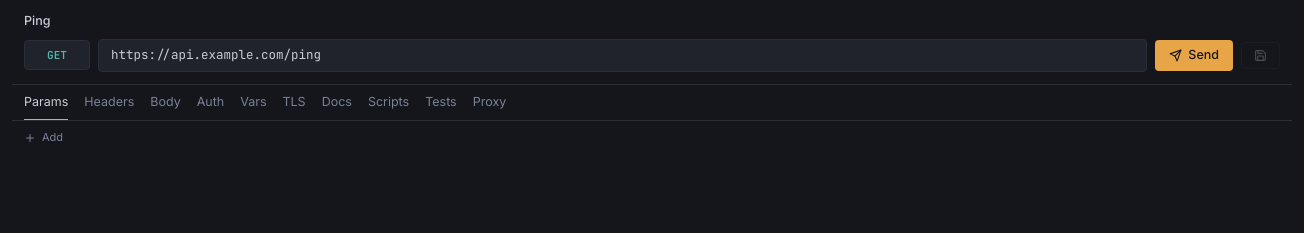
Scenario: RequestBuilder › selects a body type and shows the body editor
The image size is (1304, 233).
Click the button "Body" at [166, 103], box [150, 84, 181, 121]
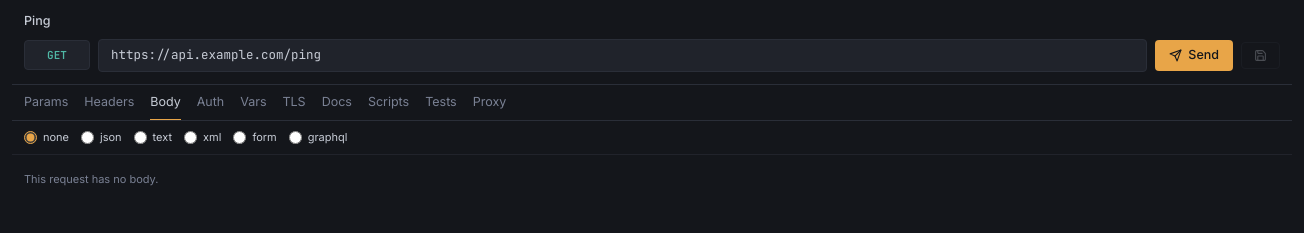
Click the radio button labelled "json" at [88, 138], box [81, 131, 94, 144]
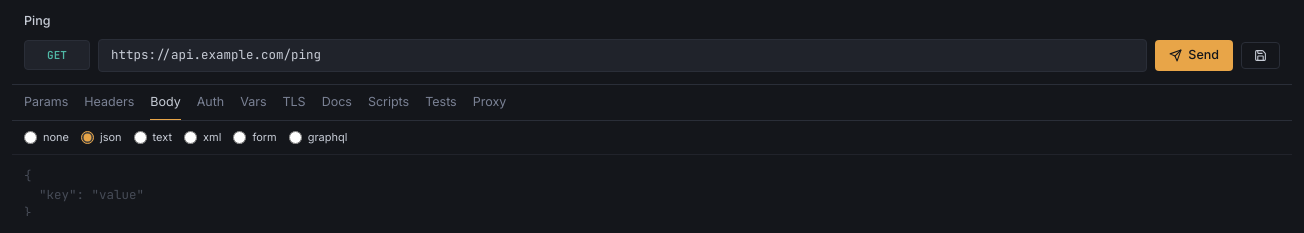
Now the label "json" is shown, box [81, 129, 122, 146]
Now the text box with placeholder "{ \"key\": \"value\" }" is shown, box [12, 155, 1292, 216]
